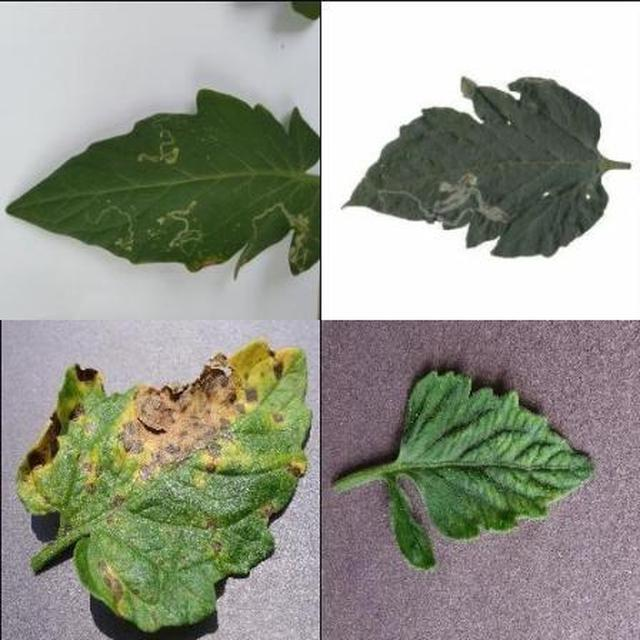Leaf Miner: (233, 236, 640, 640)
